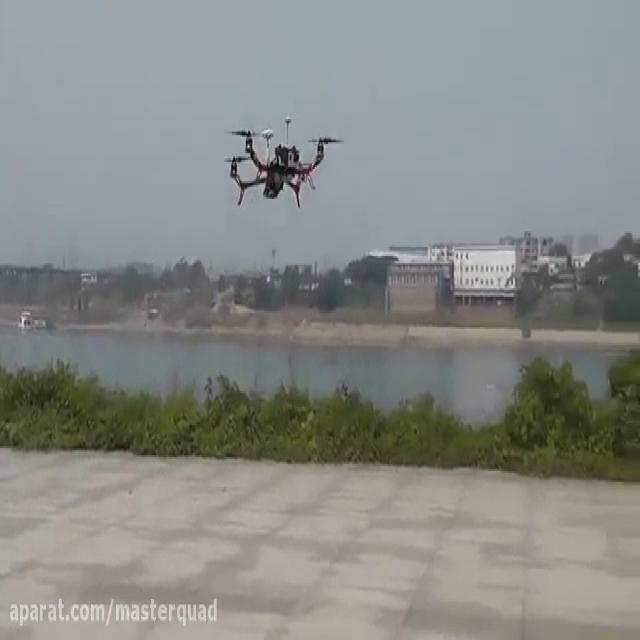drone: (219, 108, 346, 210)
